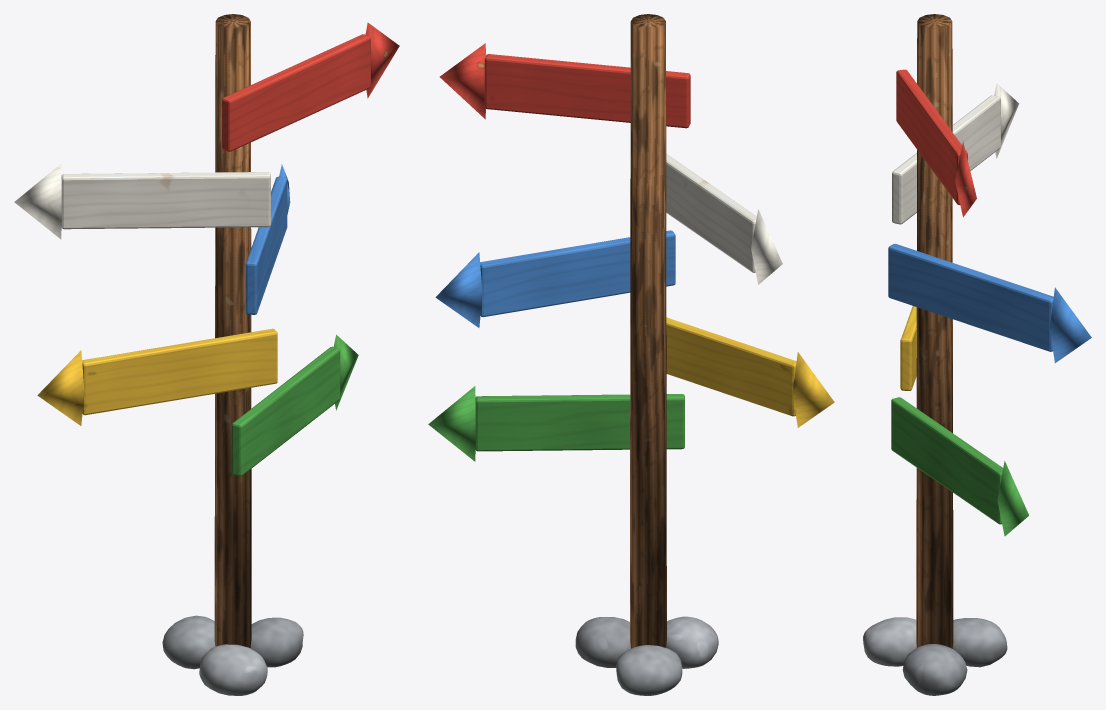
File: sign_arrows.glb
3 renders of one model, left to right at view 1: azimuth 30°, elevation 25°; view 2: azimuth 150°, elevation 25°; view 3: azimuth 270°, elevation 25°, orthographic.
Visible parts, largest first — view 1: SignArrows; view 2: SignArrows; view 3: SignArrows.
Boxes of the visible parts, left/top/right/bottom form: SignArrows: left=14, top=14, right=399, bottom=695; SignArrows: left=428, top=14, right=834, bottom=695; SignArrows: left=863, top=14, right=1091, bottom=695.
Bounding box in the file's own units: 1.29 × 2.13 × 0.6784.
1 material, 1 textured.
